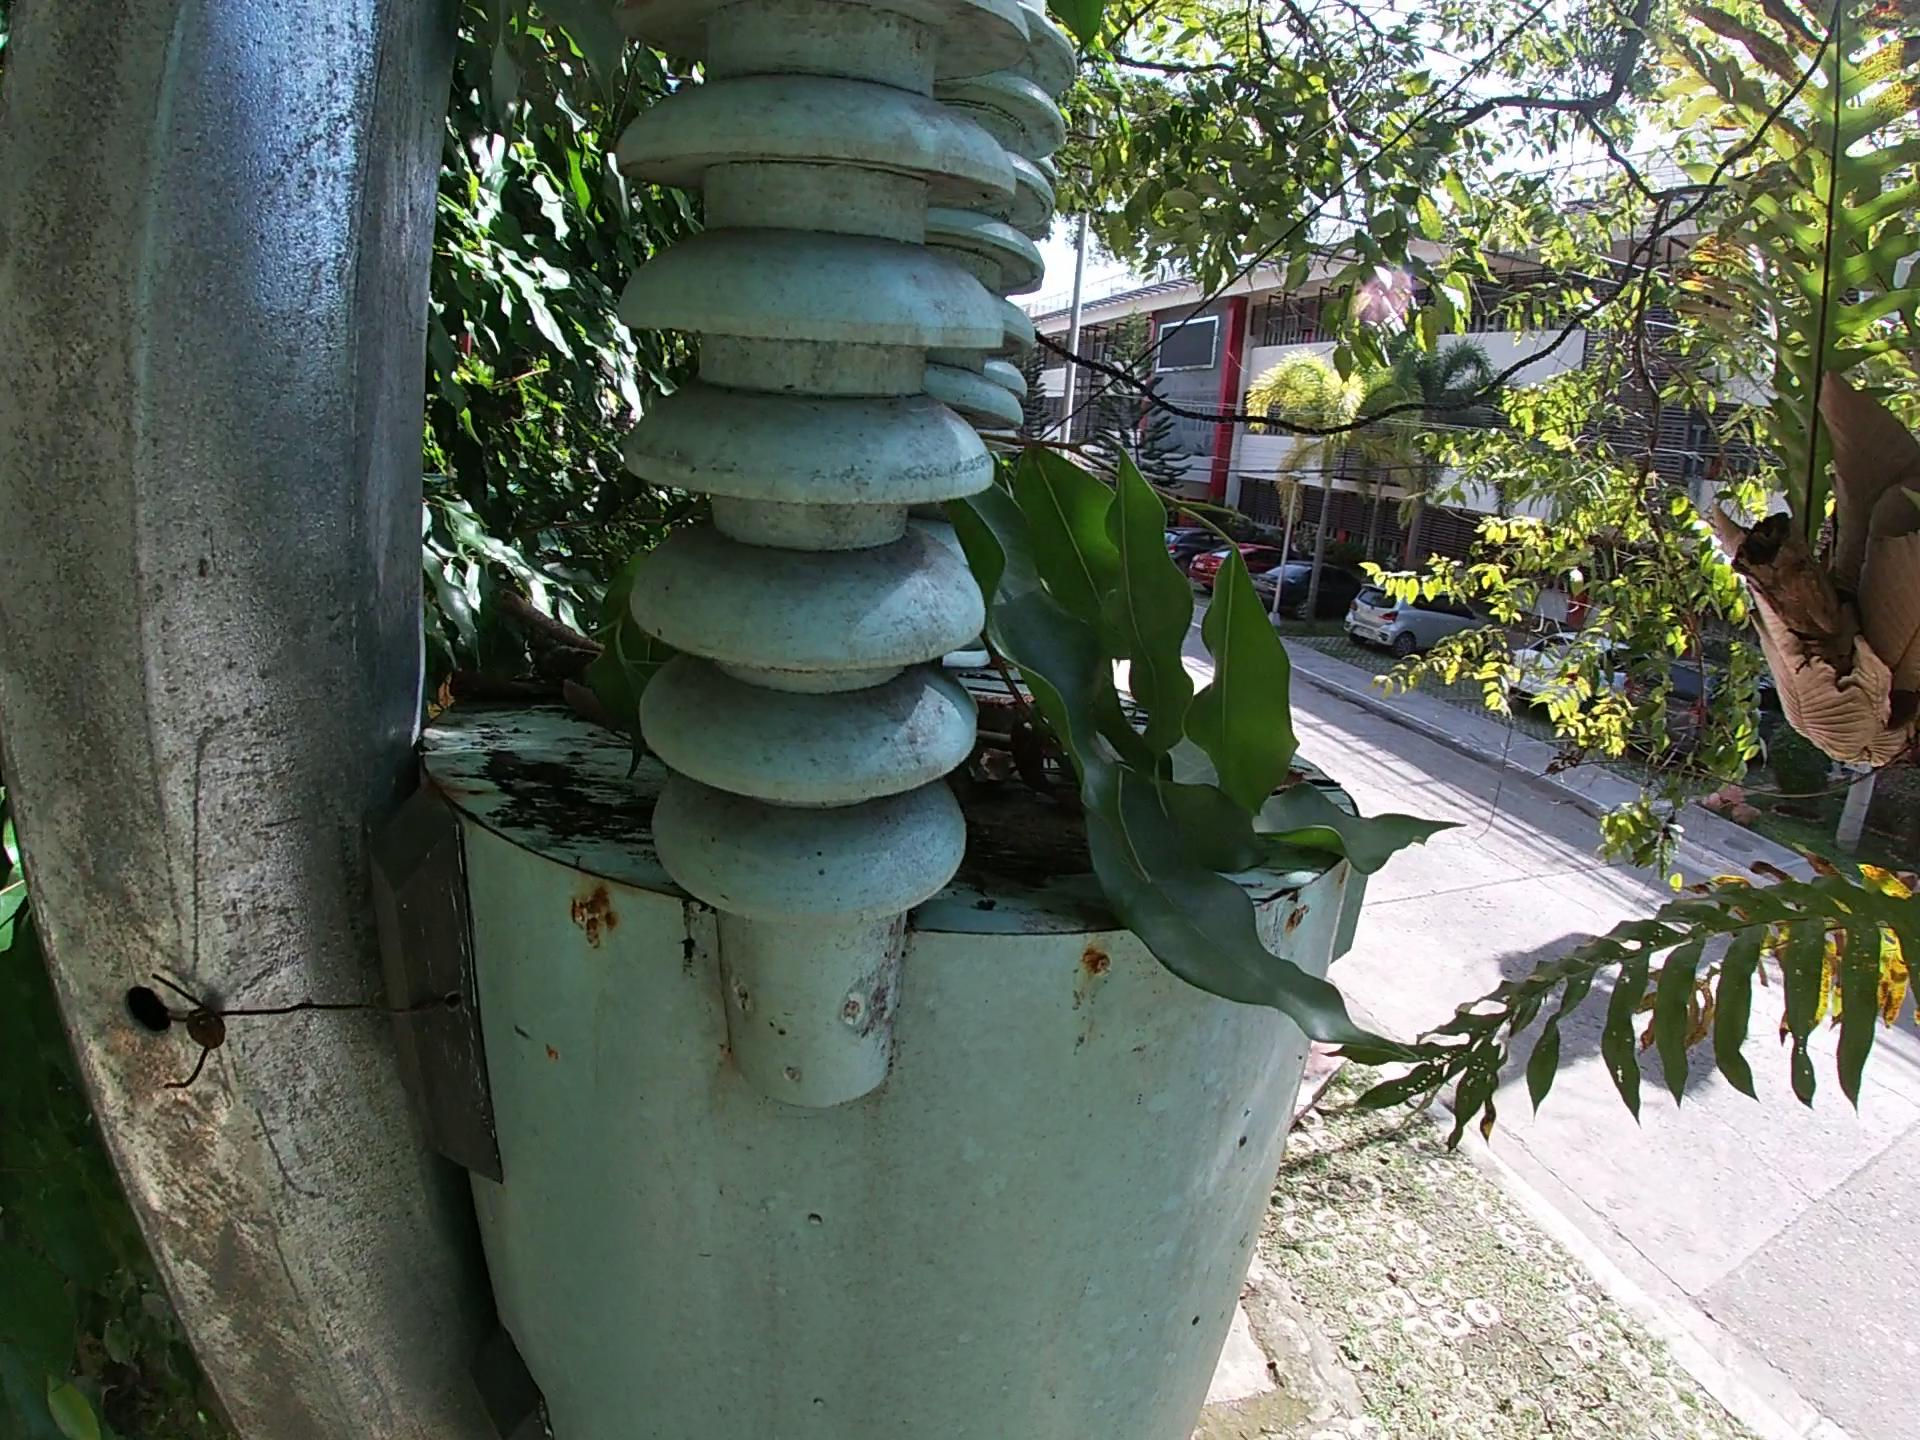branch with leaves: (934, 396, 1525, 1151)
mahogany fruit: (946, 669, 1033, 737)
tree branch: (494, 590, 599, 675)
